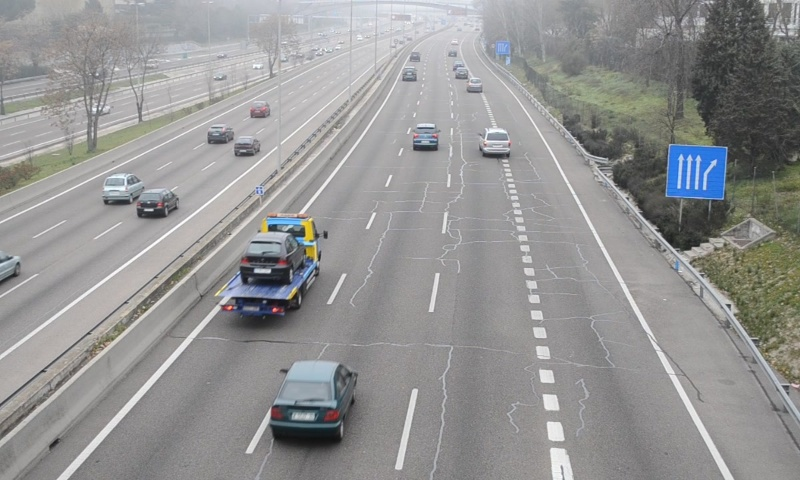car: (269, 360, 356, 436), (480, 128, 512, 156), (412, 123, 439, 149), (466, 76, 482, 94), (402, 66, 416, 82)
small-truck: (214, 213, 322, 314)
